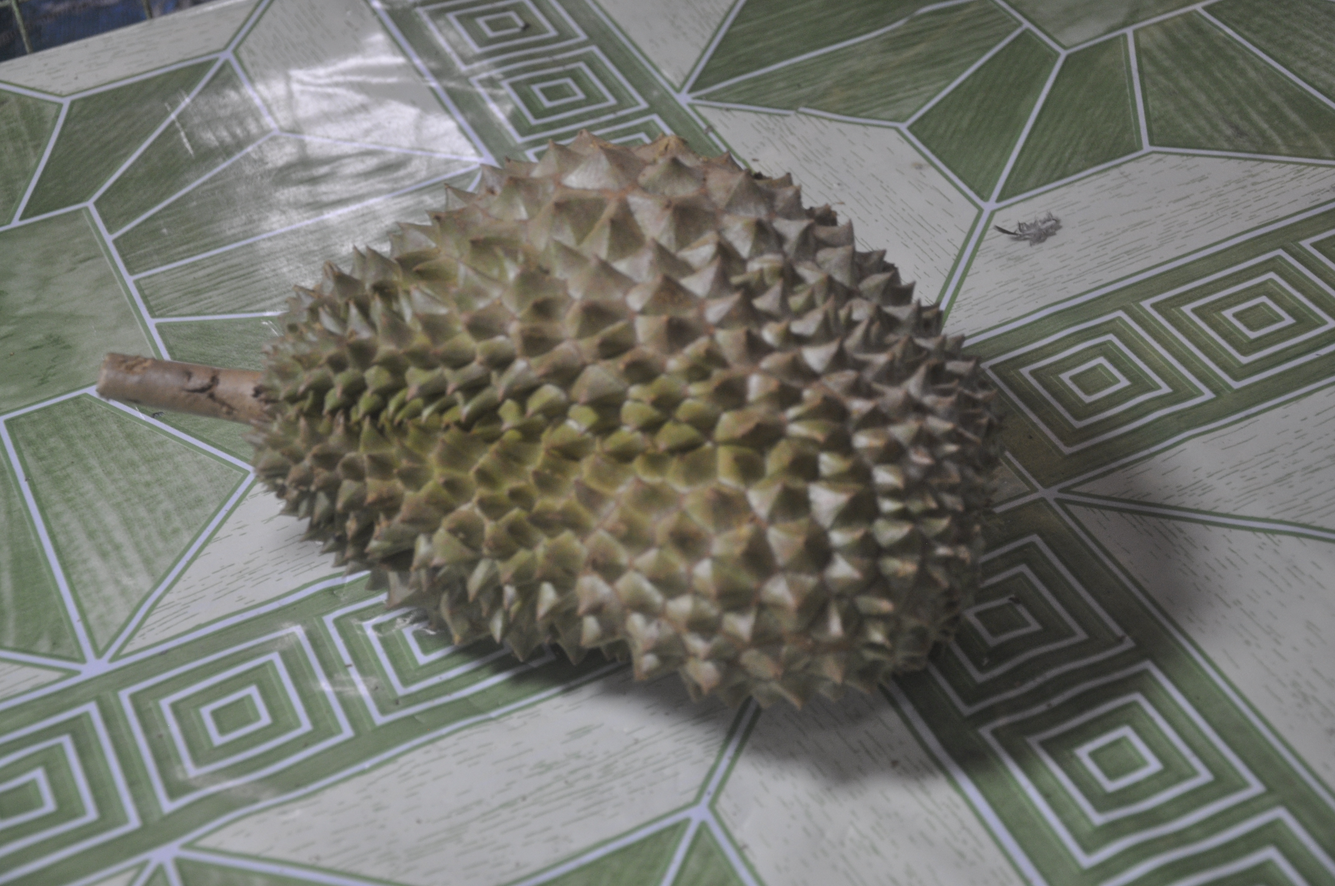mature: (252, 132, 999, 706)
